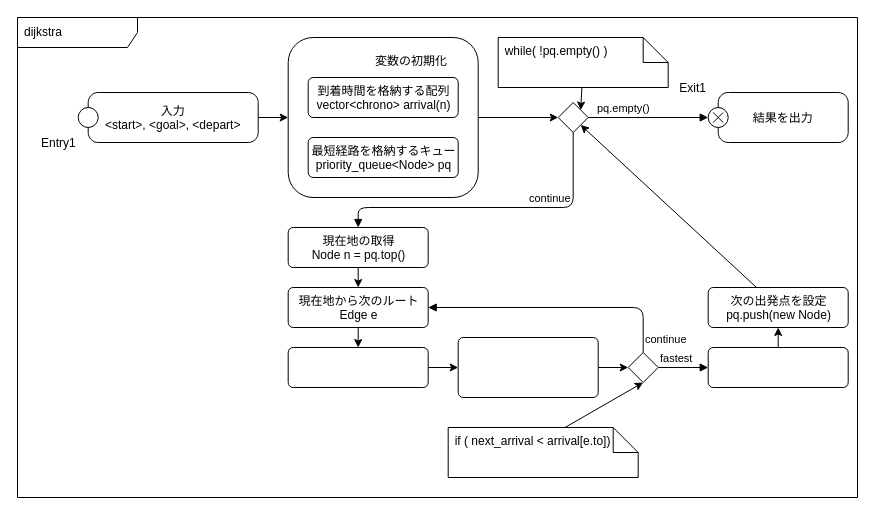
This 875x515 diagram has some shape labels left out. Here are the shapes that lost their labels. From the top down, the box of each, then its label:
(497, 36, 668, 88): 最短経路発見 or キューが空
(287, 346, 428, 388): 乗換時の純粋移動時間 trans_time
(457, 336, 598, 398): 移動後、電車に乗り、 次駅に着く時間 next_arrival
(707, 346, 848, 388): 区間の最短記録を更新 arrival[e.to] = next_arrival
(447, 426, 638, 478): 区間の最短記録かどうかを確認
